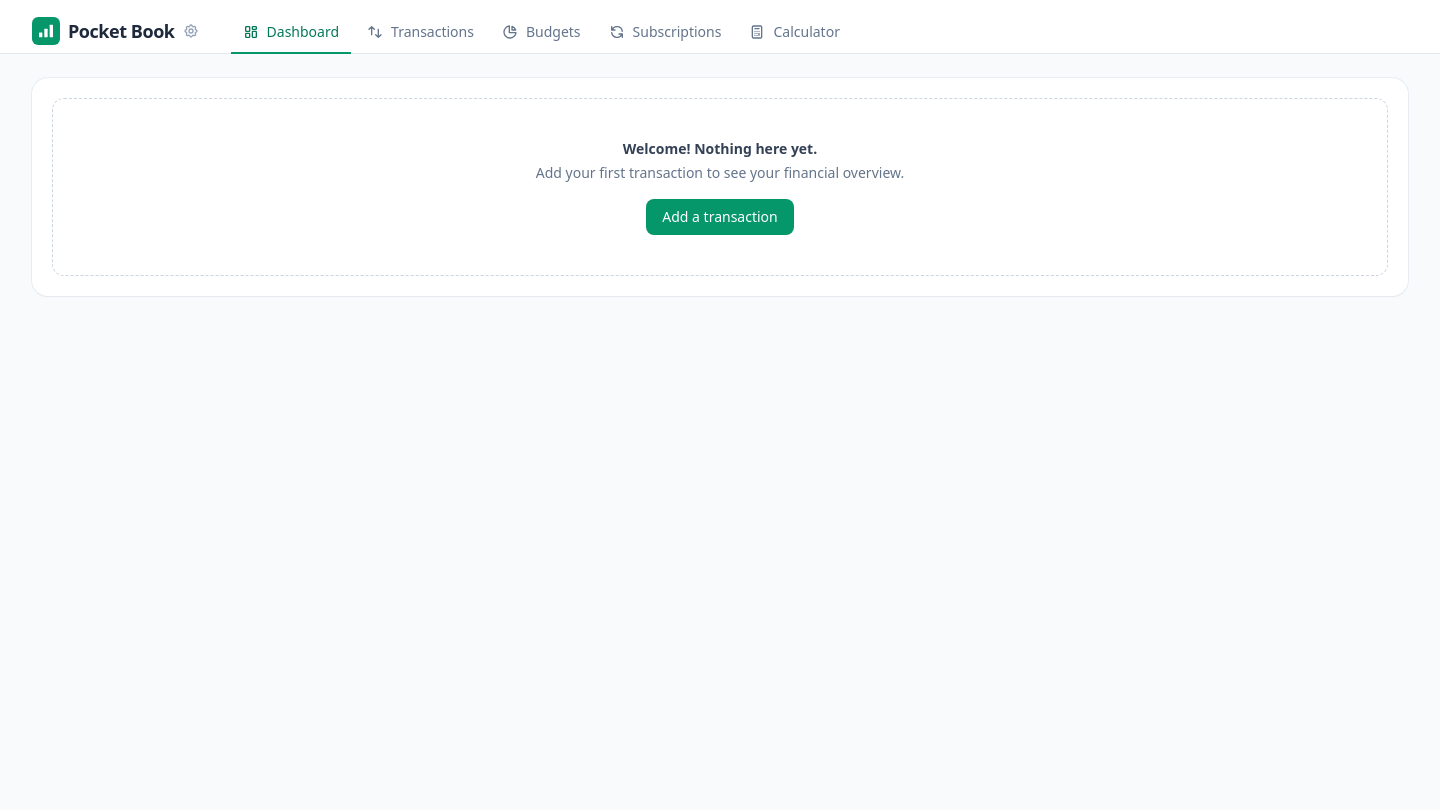
Test: App (smoke test through the real screens) › refuses a zero amount and a missing category, and saves nothing
This screenshot has width=1440, height=810.
Click the tab "Transactions" at (421, 33), box [355,12,486,54]
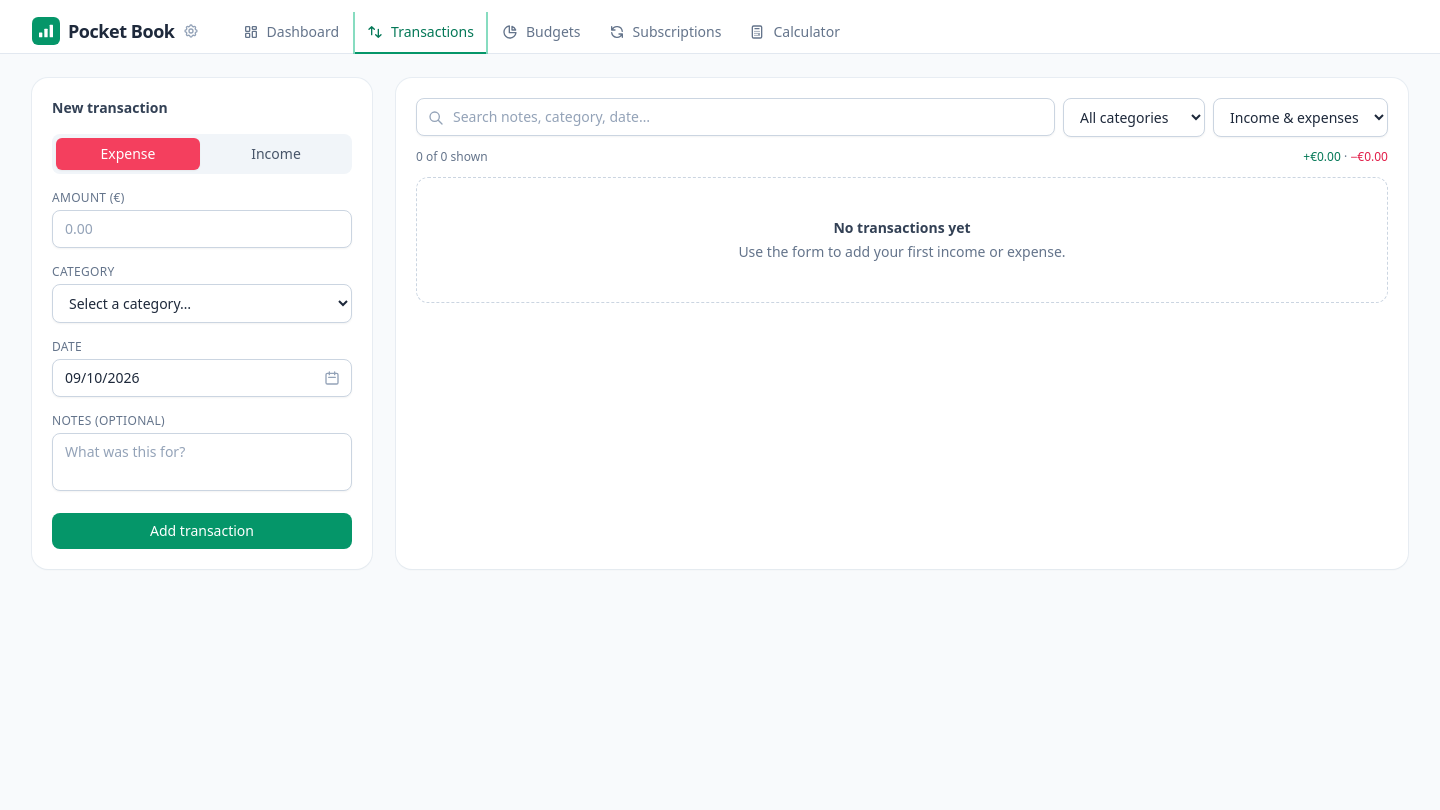
Type "0.004" into the field labelled "Amount (€)" at (202, 229), box [52,210,352,248]
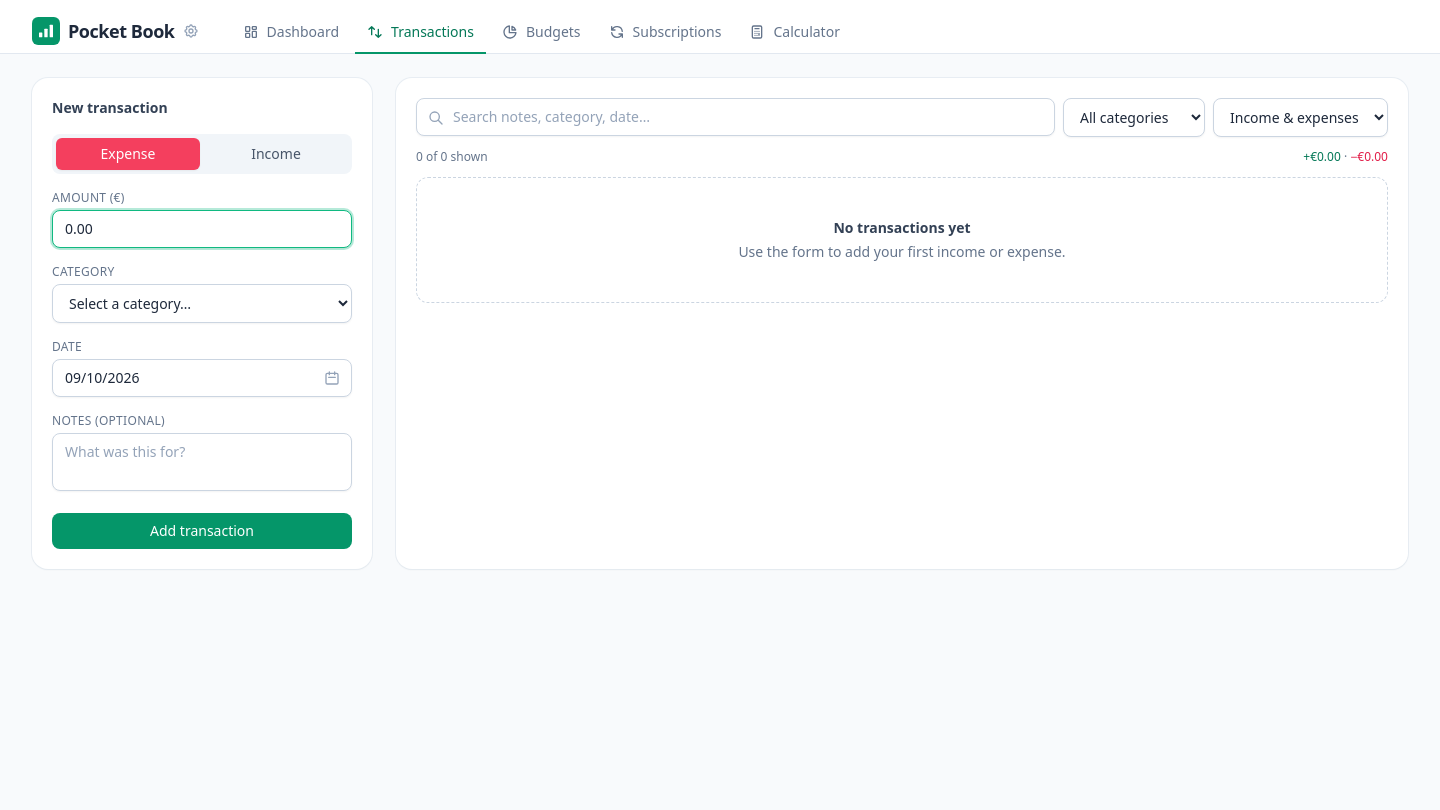
Expected: the field labelled "Amount (€)" holds "0.00", [52,210,352,248]
Click the button "Add transaction" at (202, 531), box [52,513,352,549]
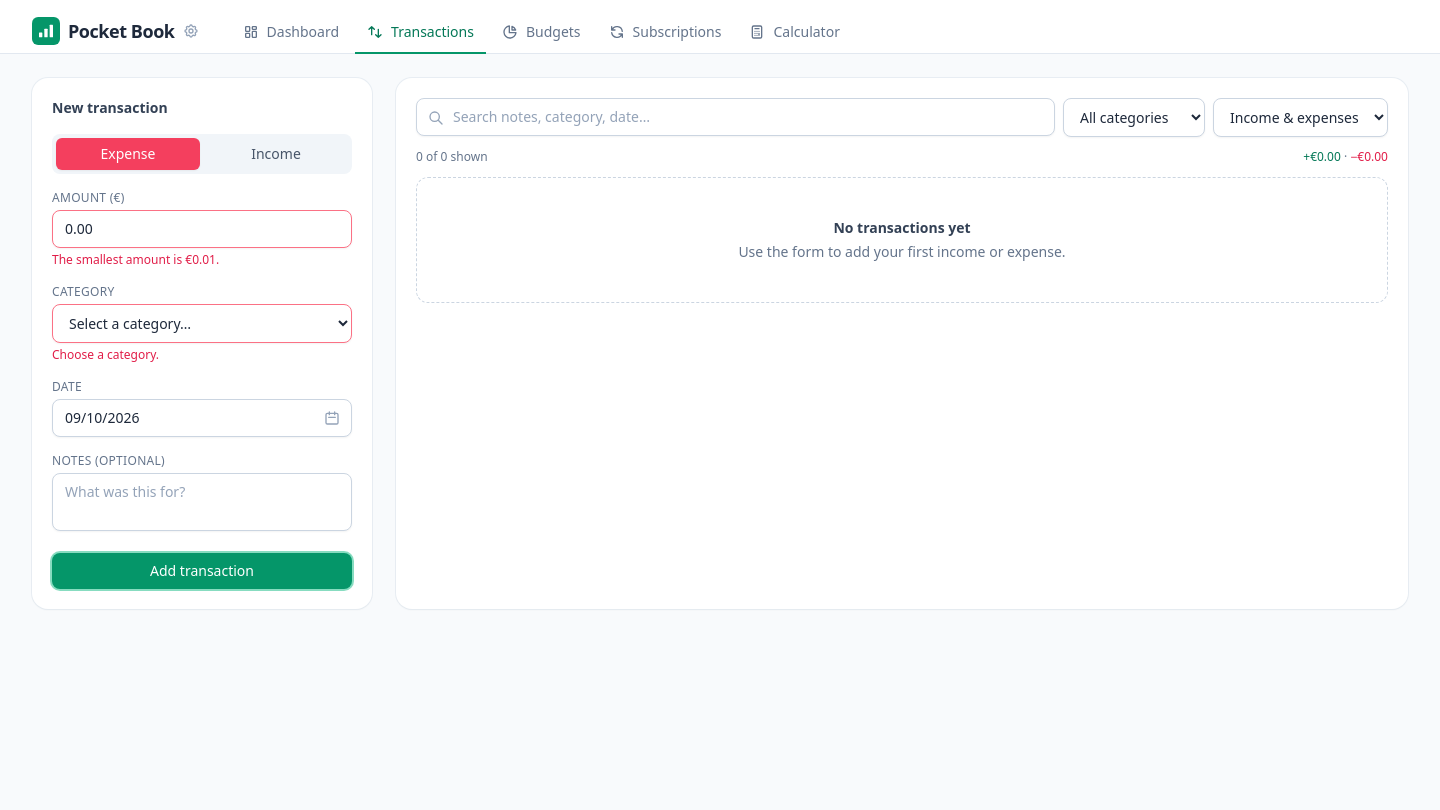
Expected: the text "The smallest amount is €0.01." is shown, [52,251,219,268]
Expected: the text "Choose a category." is shown, [52,346,159,363]
